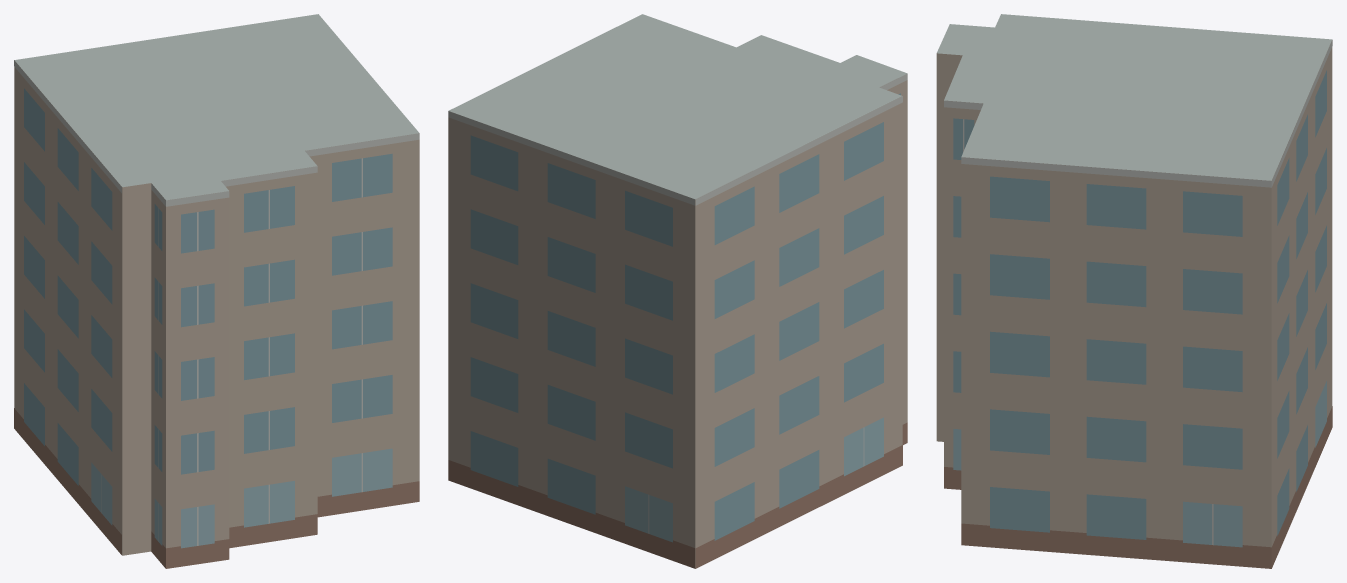
File: survey-upis-32525064.glb
3 views of the same model, side by side, from view 1: azimuth 30°, elevation 25°; view 2: azimuth 150°, elevation 25°; view 3: azimuth 270°, elevation 25° (orthographic). The views are drawn at different scales.
Parts seen in each view (by area): view 1: survey-upis-32525064.tmp; view 2: survey-upis-32525064.tmp; view 3: survey-upis-32525064.tmp.
Boxes of the visible parts, left/top/right/bottom form: survey-upis-32525064.tmp: left=14, top=14, right=419, bottom=568; survey-upis-32525064.tmp: left=448, top=14, right=907, bottom=568; survey-upis-32525064.tmp: left=936, top=14, right=1332, bottom=568.
Bounding box in the file's own units: 12.9 × 13.98 × 12.94.
